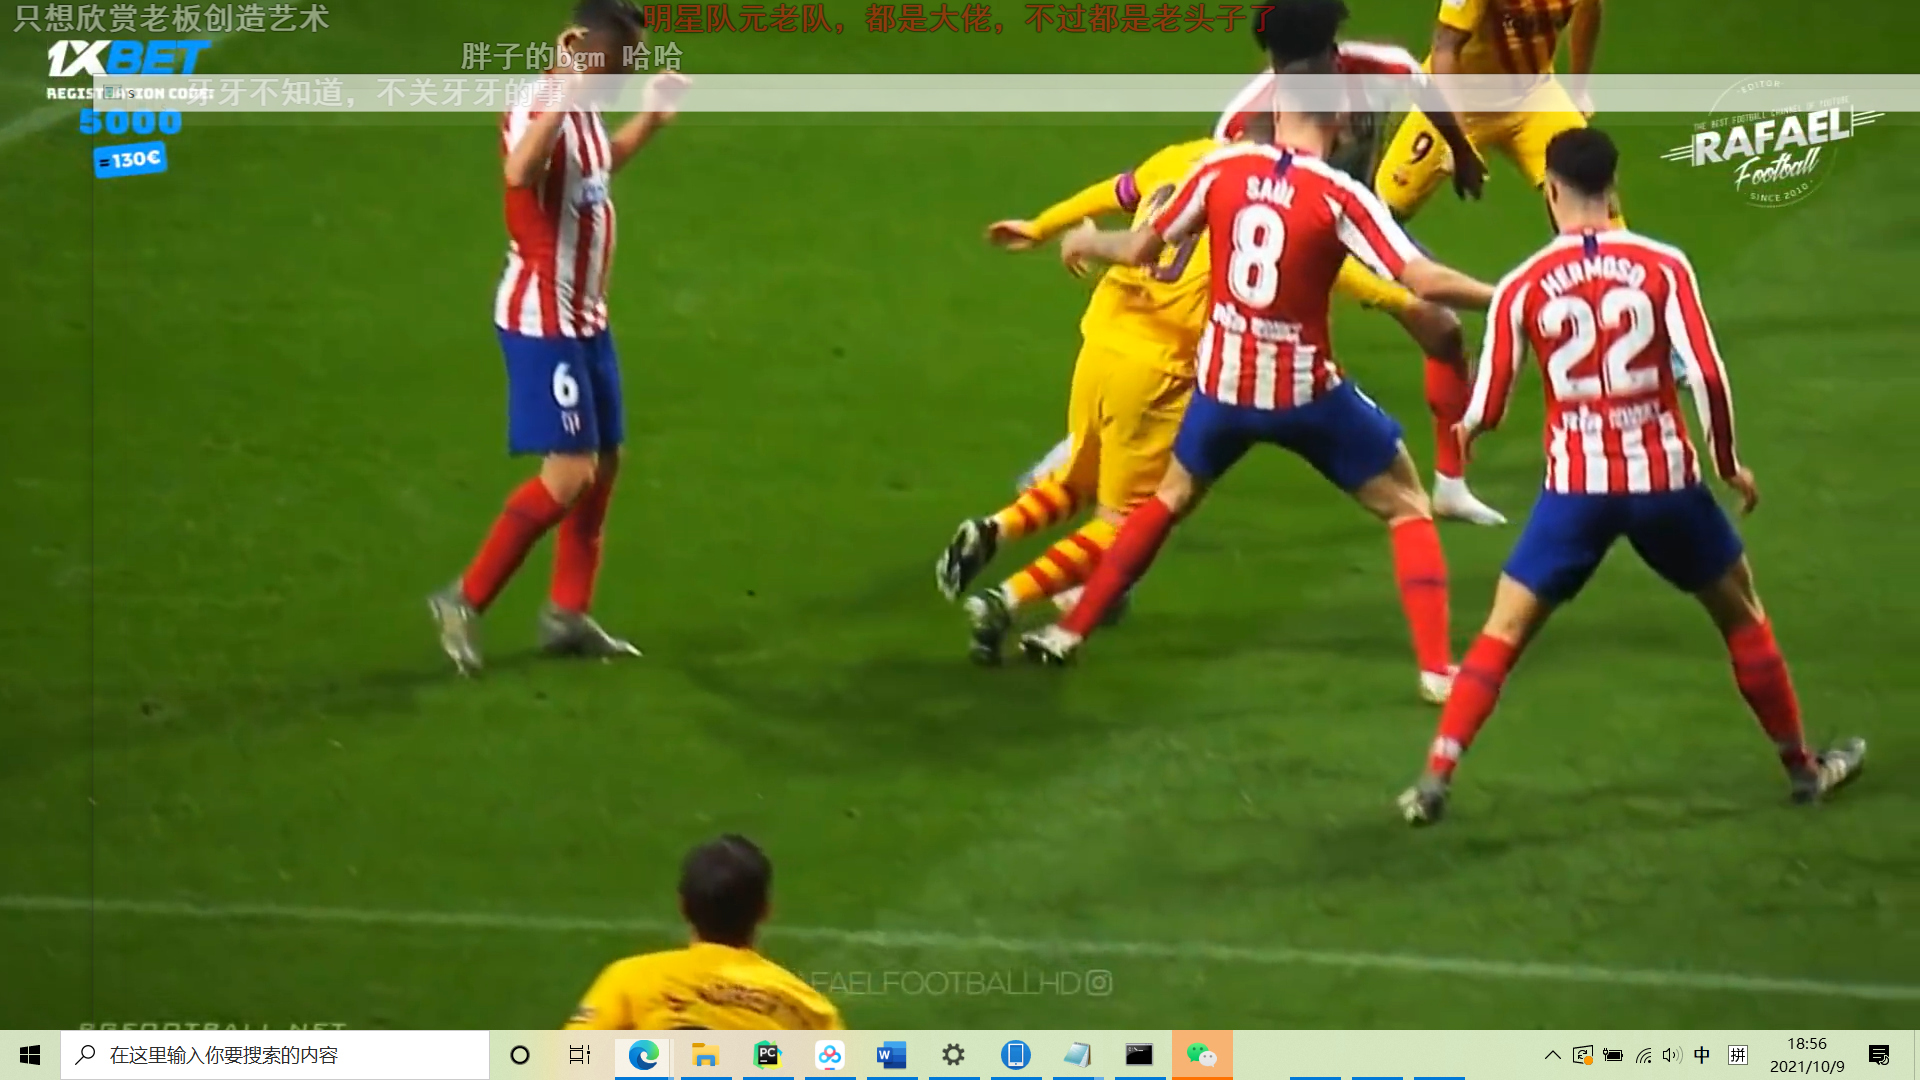ft: (1048, 568, 1135, 632)
